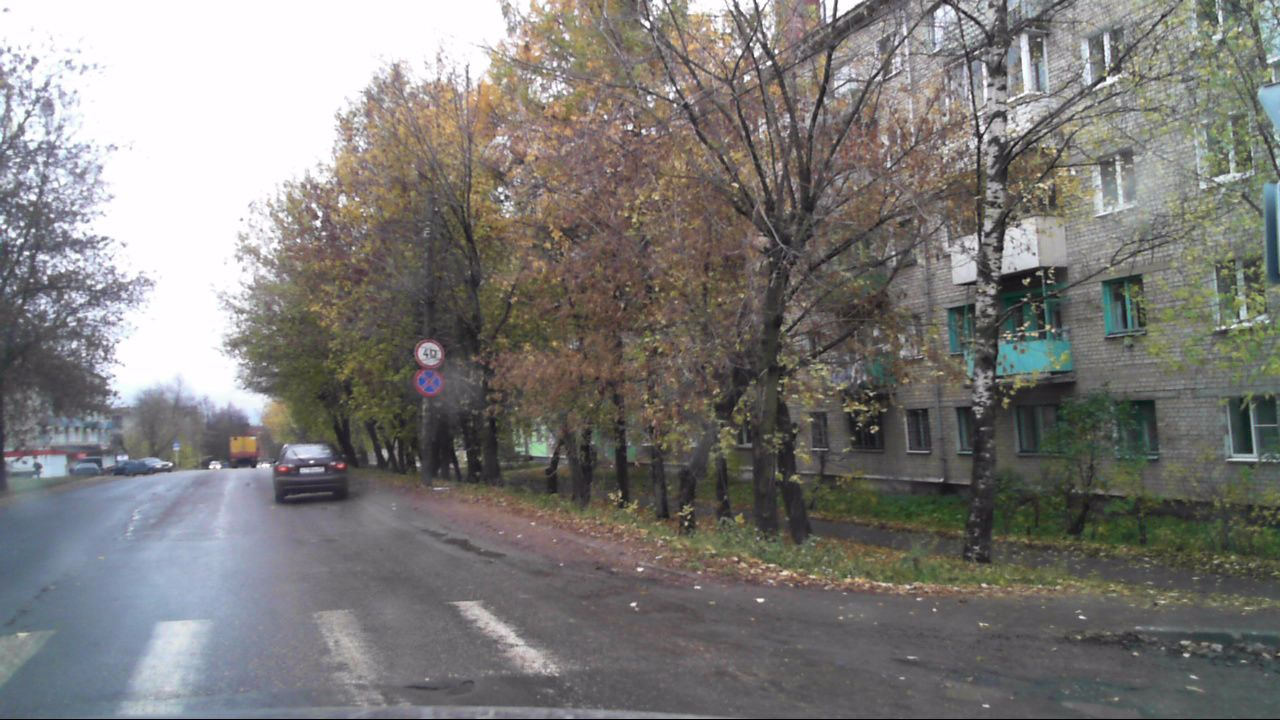No Parking: (413, 365, 445, 395)
speed_warning_40: (414, 338, 446, 370)
